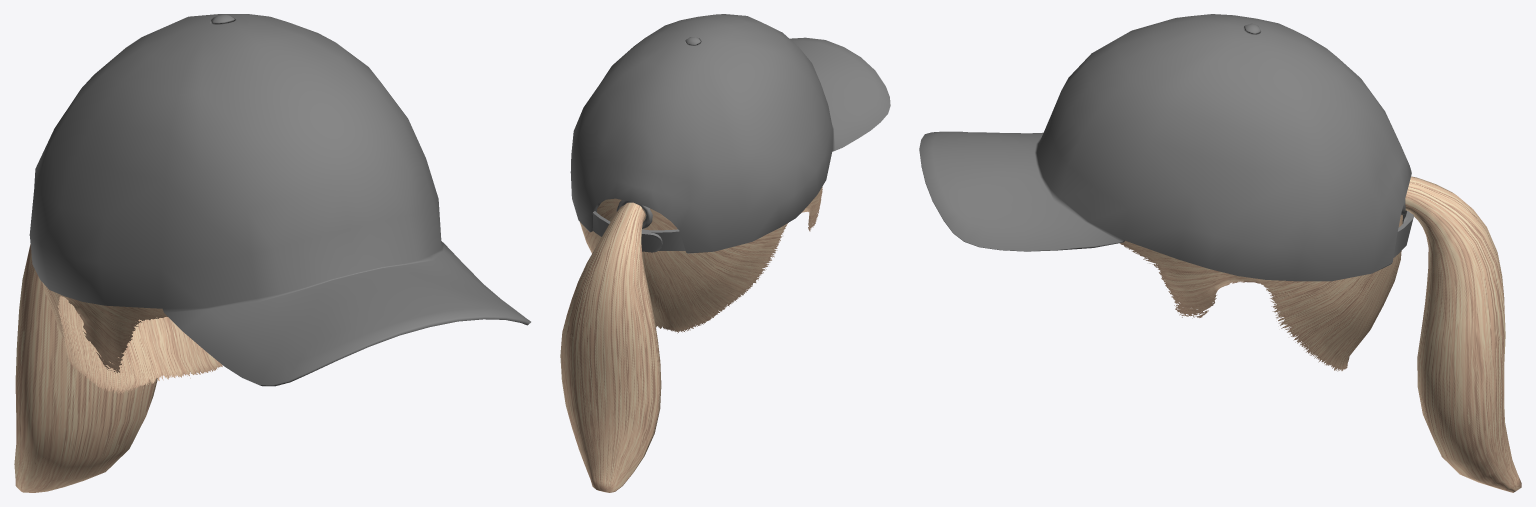
The model's file is BaseballHat_Hair_01.obj.
3 views of the same model, side by side, from view 1: azimuth 30°, elevation 25°; view 2: azimuth 150°, elevation 25°; view 3: azimuth 270°, elevation 25° (orthographic). The views are drawn at different scales.
Size of the model in its own units: 17.06 by 28.11 by 32.45.
